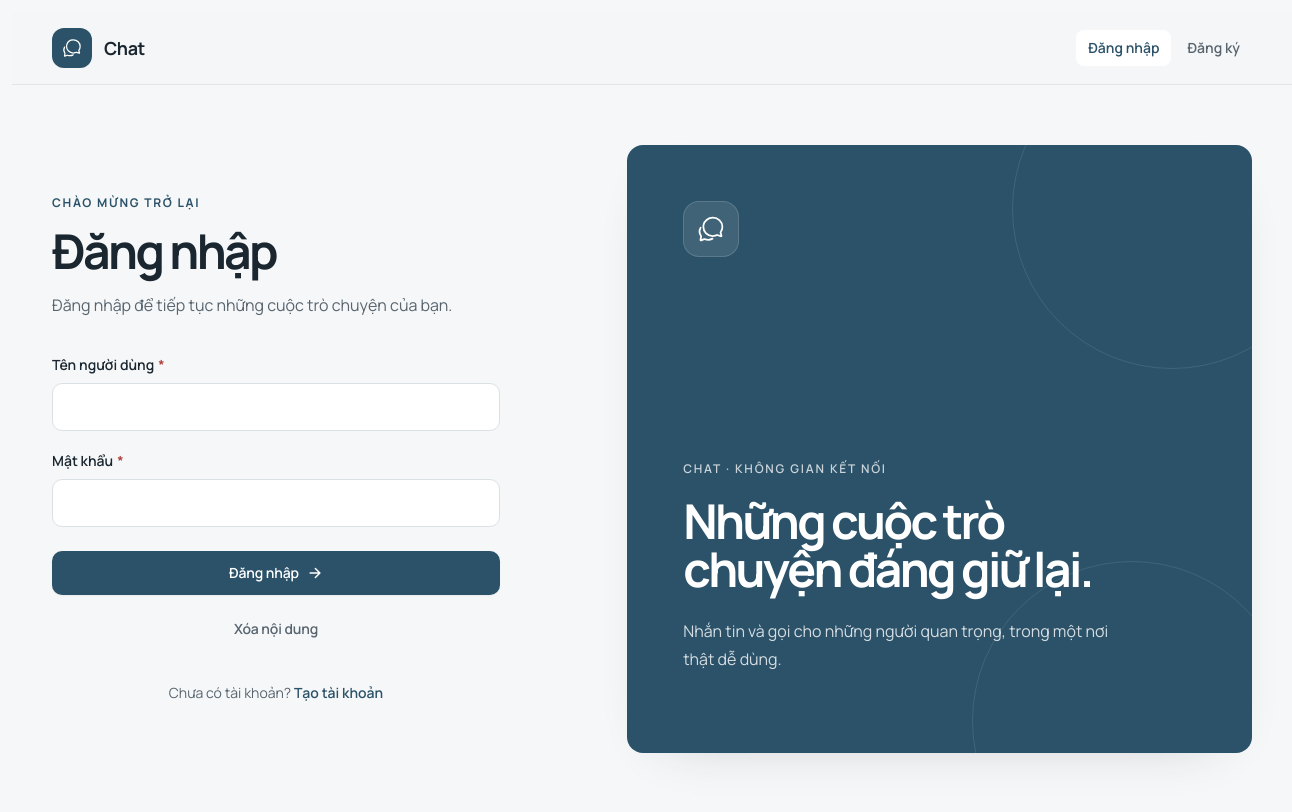
Test case: successful login stores the access token and navigates to chat
In the field labelled "Tên người dùng*": (276, 407) [52, 383, 500, 431], type "nivz"
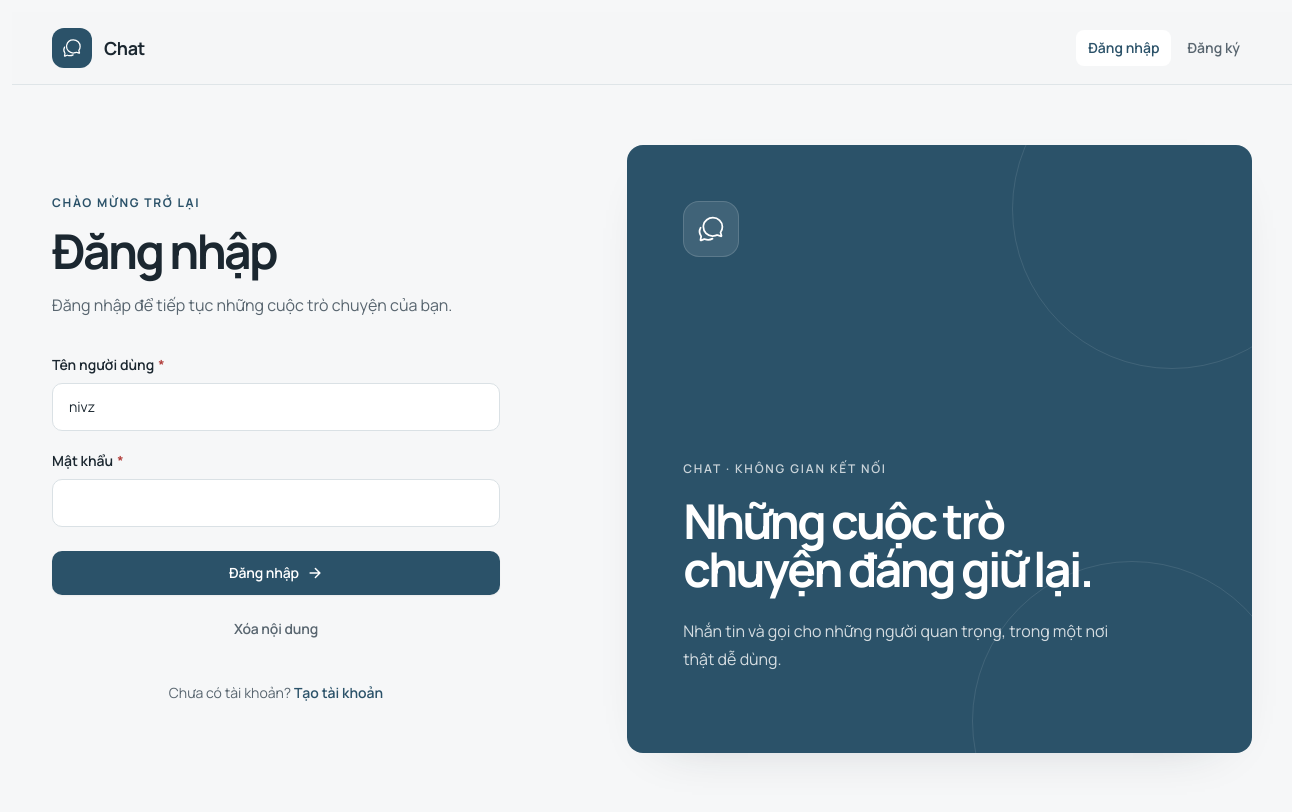
In the password field labelled "Mật khẩu*": (276, 503) [52, 479, 500, 527], type "password"
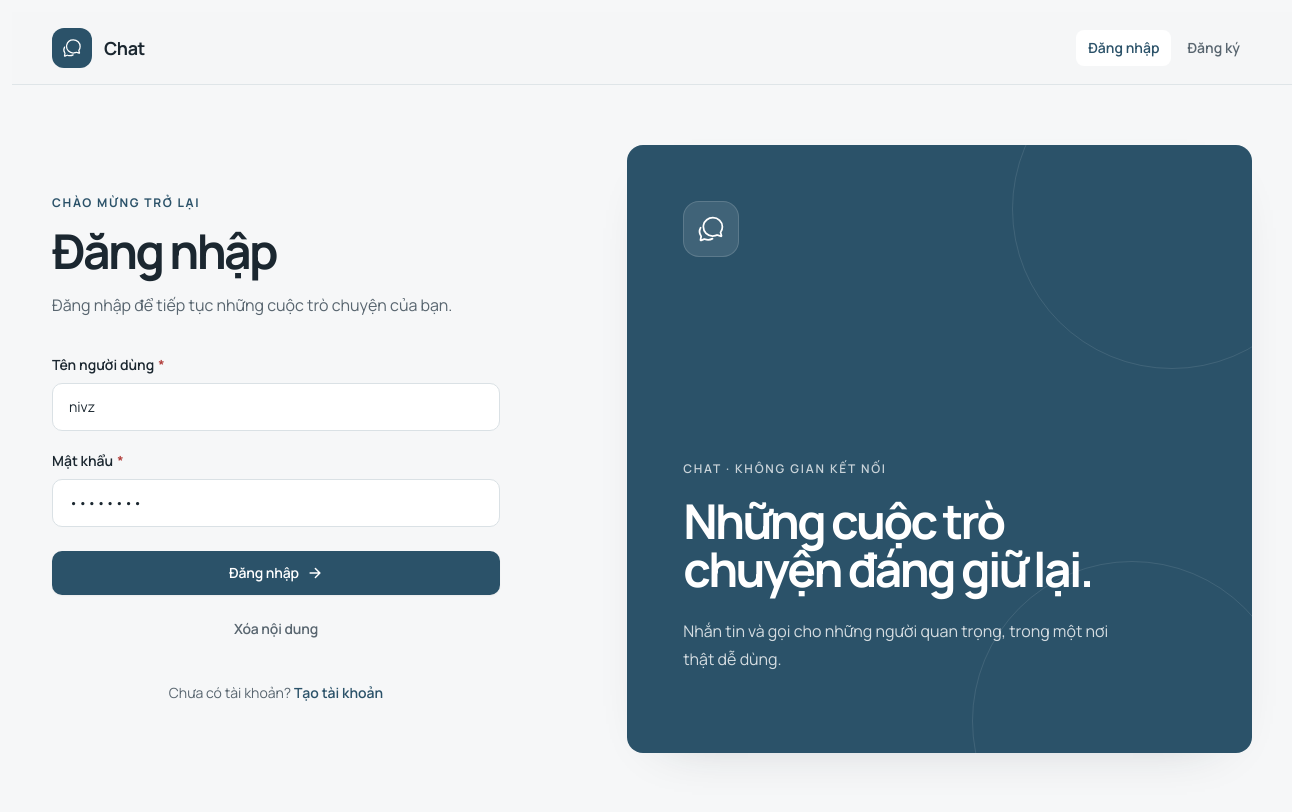
Click the button "Đăng nhập": (276, 573) [52, 551, 500, 595]
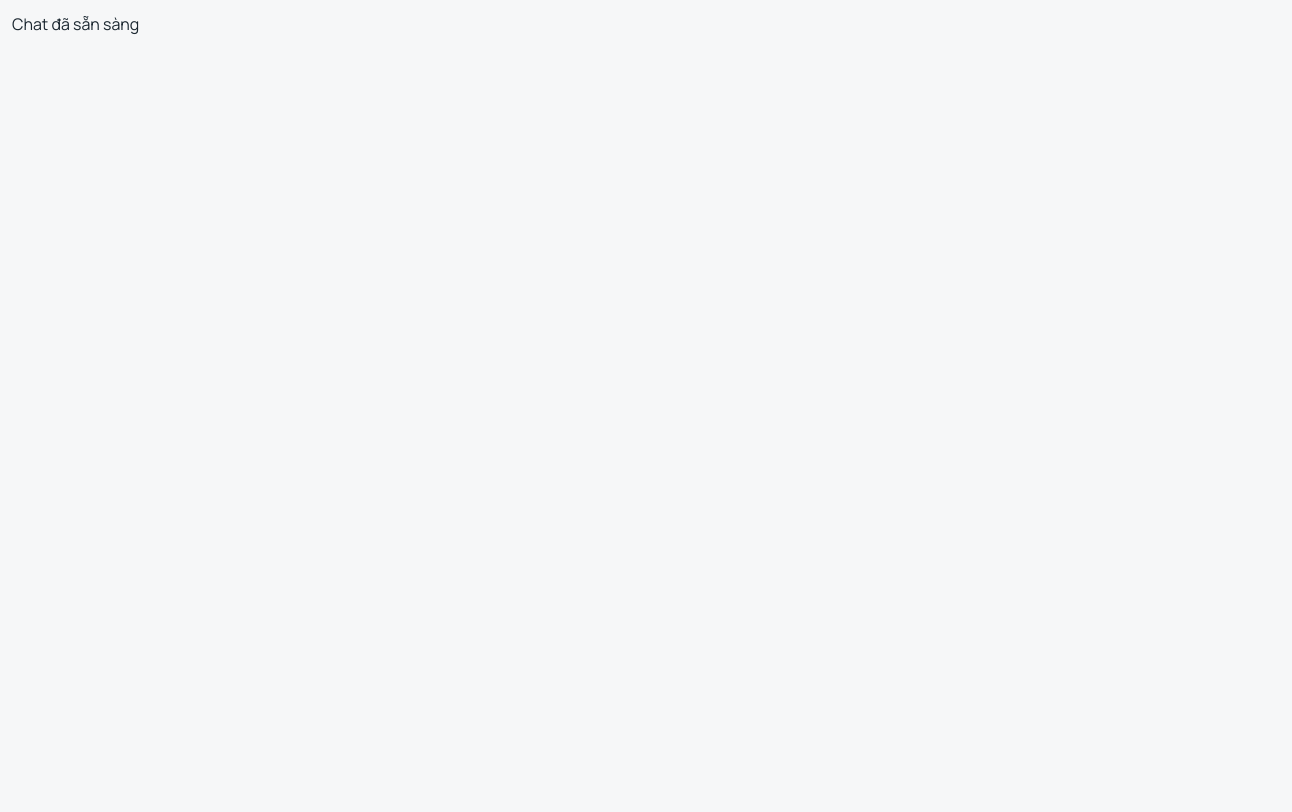
Check: the text "Chat đã sẵn sàng" is shown, box [12, 13, 139, 35]
